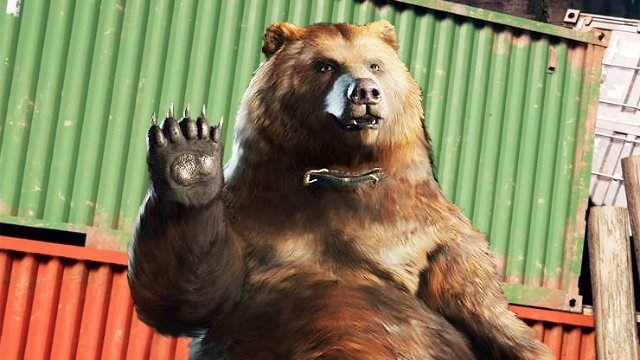bear: (228, 16, 438, 158)
